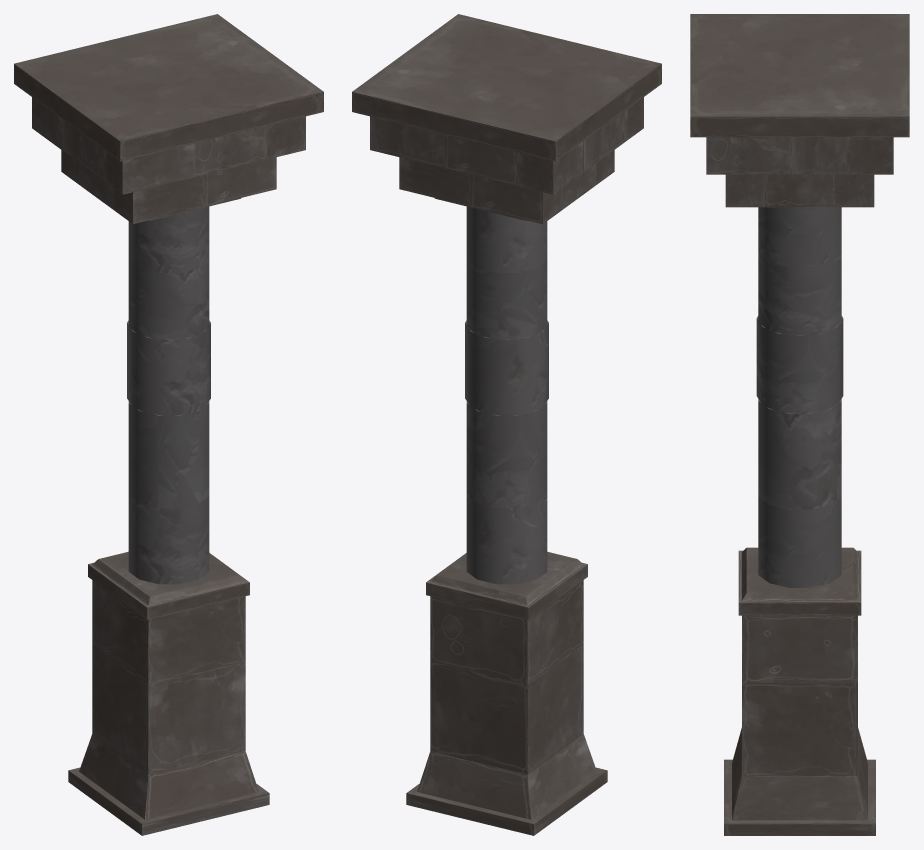
The picture shows the model from 3 angles, left to right: view 1: azimuth 30°, elevation 25°; view 2: azimuth 150°, elevation 25°; view 3: azimuth 270°, elevation 25°; orthographic projection. The views are drawn at different scales.
Parts seen in each view (by area): view 1: pCube25081, pCube25108, pCylinder11, pCylinder12, pCylinder9, pCylinder13, pCylinder14, pCube25093, pCube25100, pCube25092, pCube25101, pCube25095 (+4 smaller); view 2: pCube25081, pCube25108, pCylinder11, pCylinder12, pCylinder9, pCylinder13, pCylinder14, pCube25093, pCube25097, pCube25107, pCube25104, pCube25096 (+4 smaller); view 3: pCube25081, pCube25108, pCylinder11, pCylinder12, pCylinder9, pCylinder13, pCylinder14, pCube25093, pCube25102, pCube25099, pCube25106, pCube25107 (+2 smaller).
Boxes of the visible parts, x1,y1,x2,y2 form: pCube25081: (79,551,258,819); pCube25108: (14,14,323,161); pCylinder11: (128,401,209,508); pCylinder12: (127,320,210,415); pCylinder9: (128,496,209,584); pCylinder13: (128,261,209,339); pCylinder14: (128,206,209,272); pCube25093: (68,767,269,835); pCube25100: (104,143,194,194); pCube25092: (114,175,204,224); pCube25101: (194,126,266,176); pCube25095: (205,157,276,206); pCube25081: (417,551,596,819); pCube25108: (352,14,661,161); pCylinder11: (466,401,547,508); pCylinder12: (465,320,548,415); pCylinder9: (466,496,547,584); pCylinder13: (466,261,547,339); pCylinder14: (466,206,547,272); pCube25093: (406,767,607,835); pCube25097: (471,175,561,224); pCube25107: (370,116,445,168); pCube25104: (445,135,516,185); pCube25096: (399,157,470,206); pCube25081: (732,547,867,820); pCube25108: (690,14,909,137); pCylinder11: (758,399,841,509); pCylinder12: (756,316,843,414); pCylinder9: (758,497,841,587); pCylinder13: (758,254,841,335); pCylinder14: (758,207,841,266); pCube25093: (724,759,875,835); pCube25102: (706,137,791,174); pCube25099: (765,174,834,207); pCube25106: (792,137,846,174); pCube25107: (846,137,893,174).
Size of the model in its own units: 2.09 by 7.03 by 1.89.
